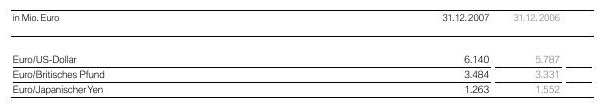table: (0, 0, 605, 108)
